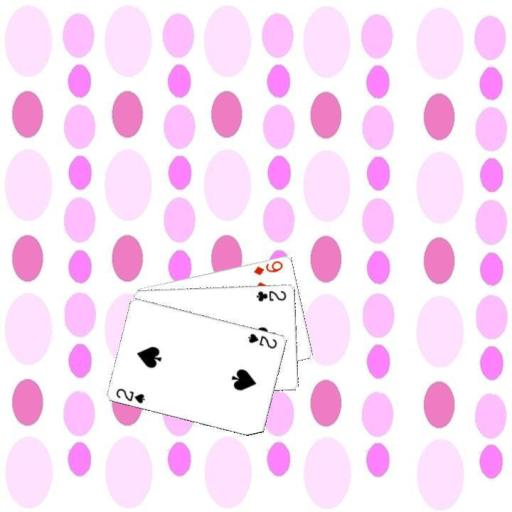card-corner: (244, 330, 278, 350), (113, 384, 147, 404), (250, 258, 284, 276), (253, 288, 288, 302)
